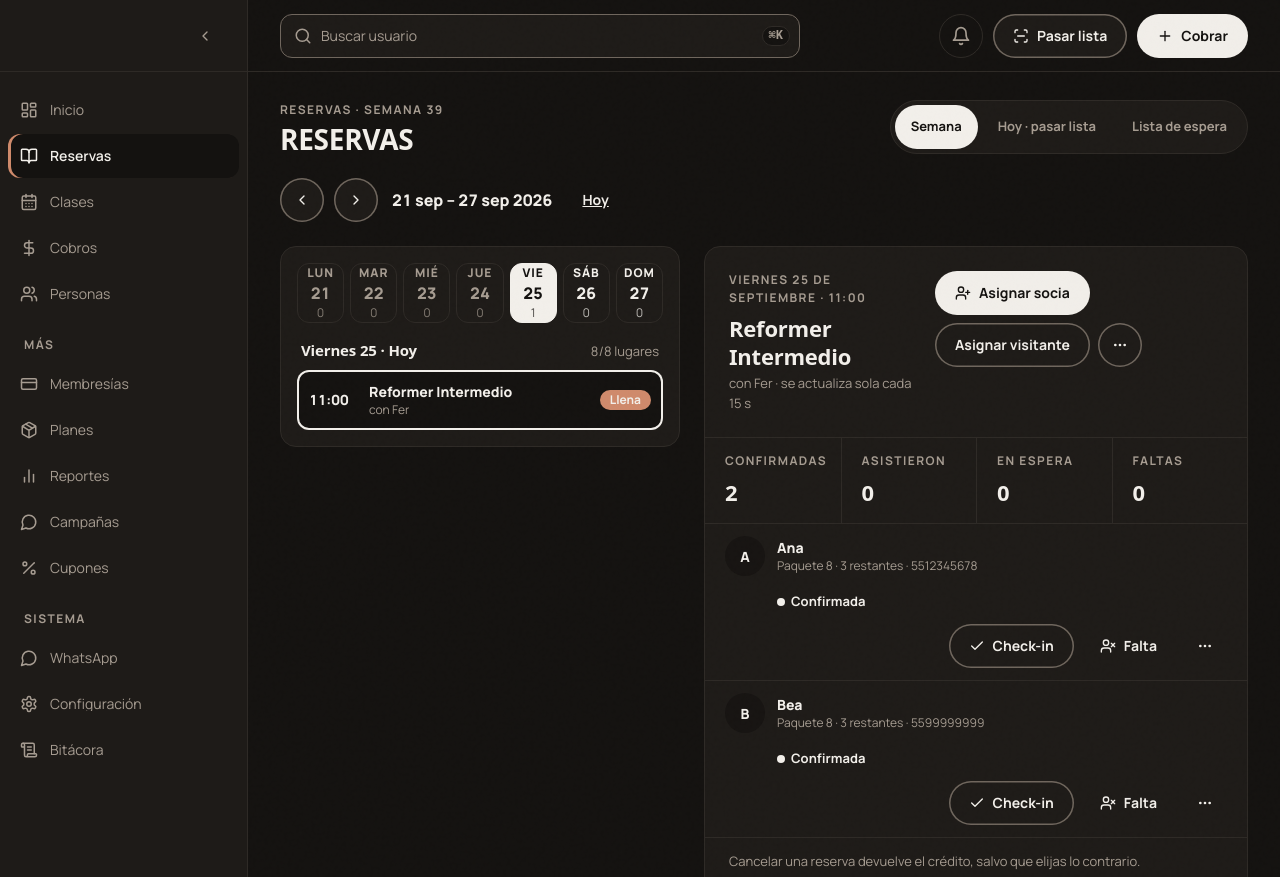
Test: Cancelar clase · WhatsApp desconectado (P0-1) › avisa a mano a las alumnas que no se pudieron notificar
This screenshot has width=1280, height=877.
Check: the heading "Reformer Intermedio" is shown, box [729,313,851,370]
What coordinates should you click on to do the following:
click the button named "Más acciones de la clase"
I would click on:
 (1120, 345)
Its box is [1098,323,1142,367].
(page scrolled)
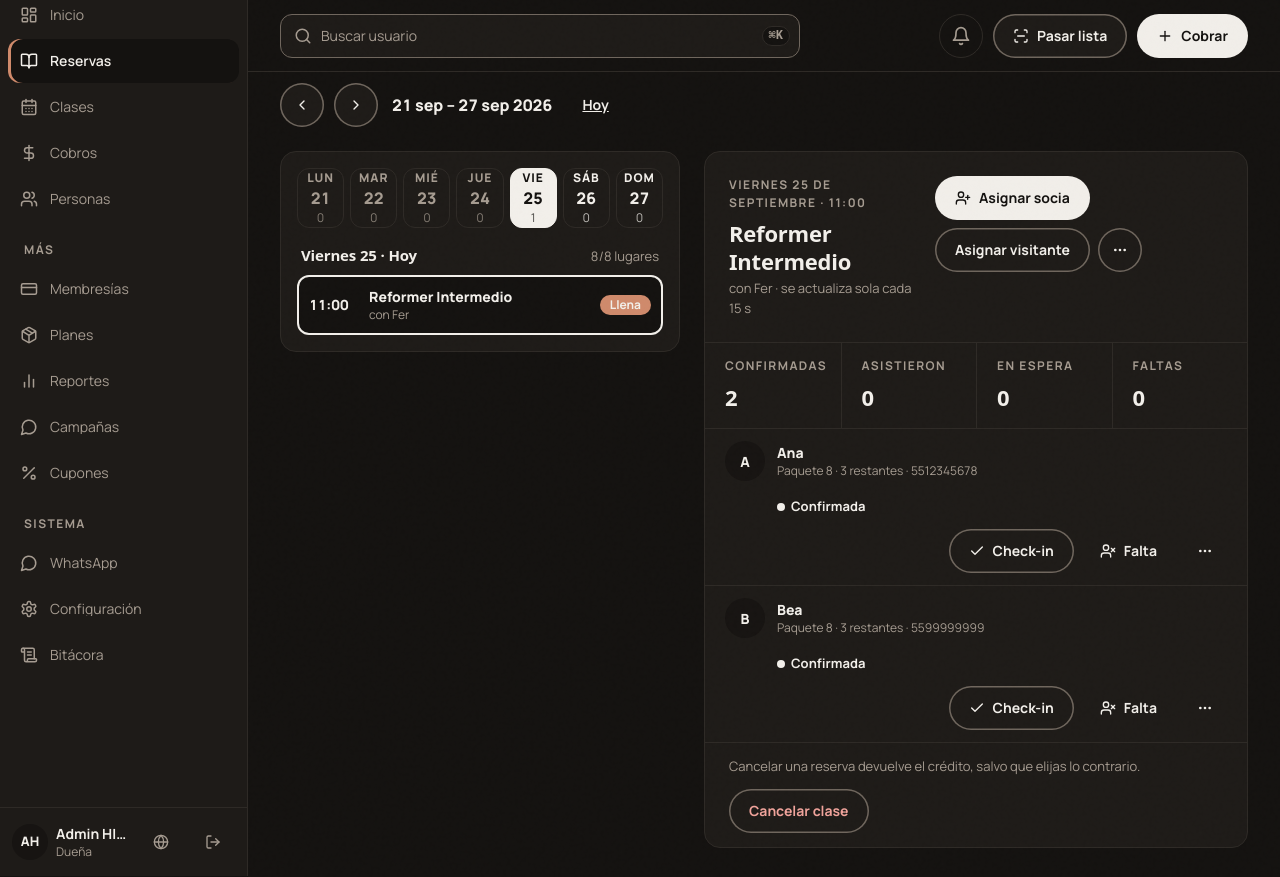
What coordinates should you click on to do the following:
click the button "Cancelar clase"
I would click on:
 (799, 810)
Its box is [729,788,868,832].
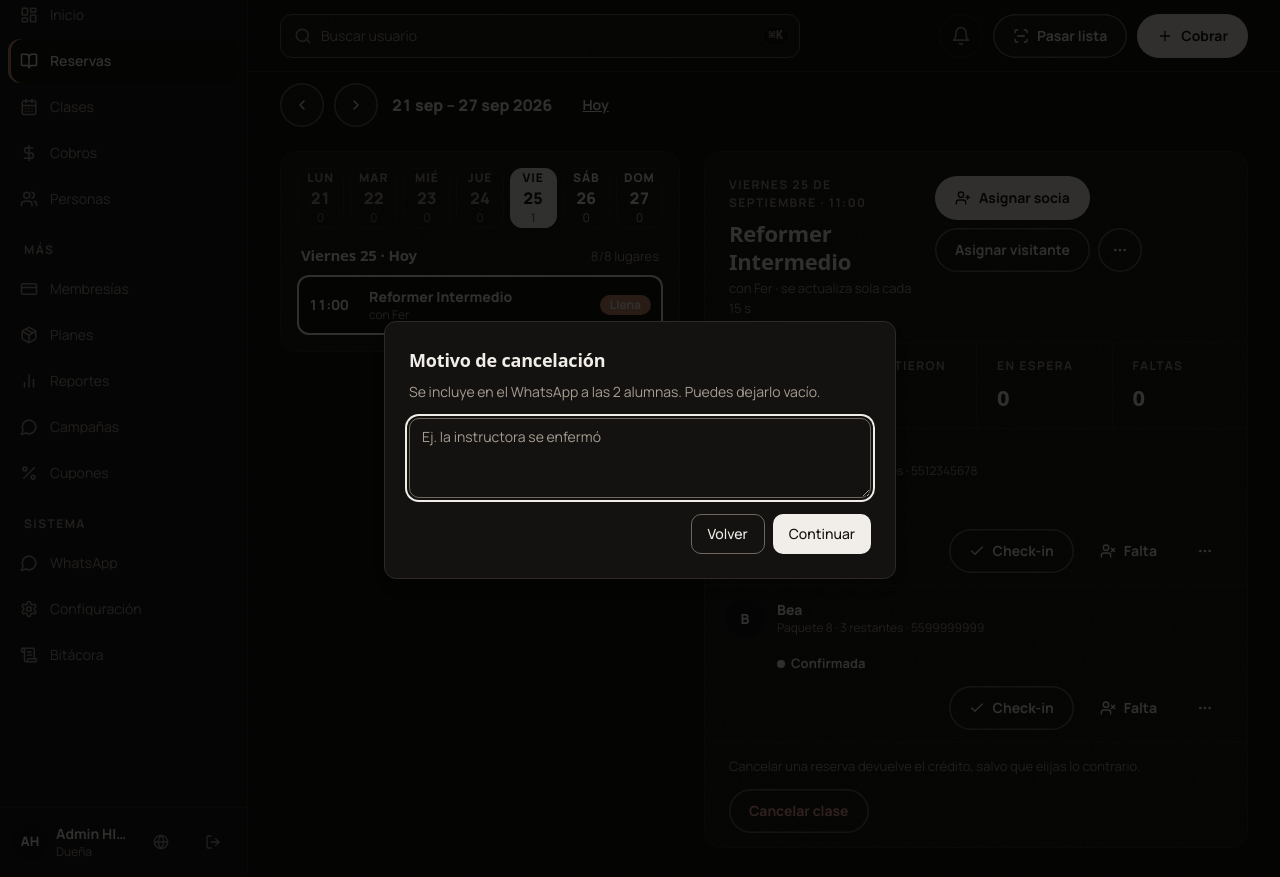
Check: the heading "Motivo de cancelación" is shown, box [409,348,605,372]
What coordinates should you click on to do the following:
click the button "Continuar"
I would click on:
 (822, 534)
Its box is [773,514,871,554].
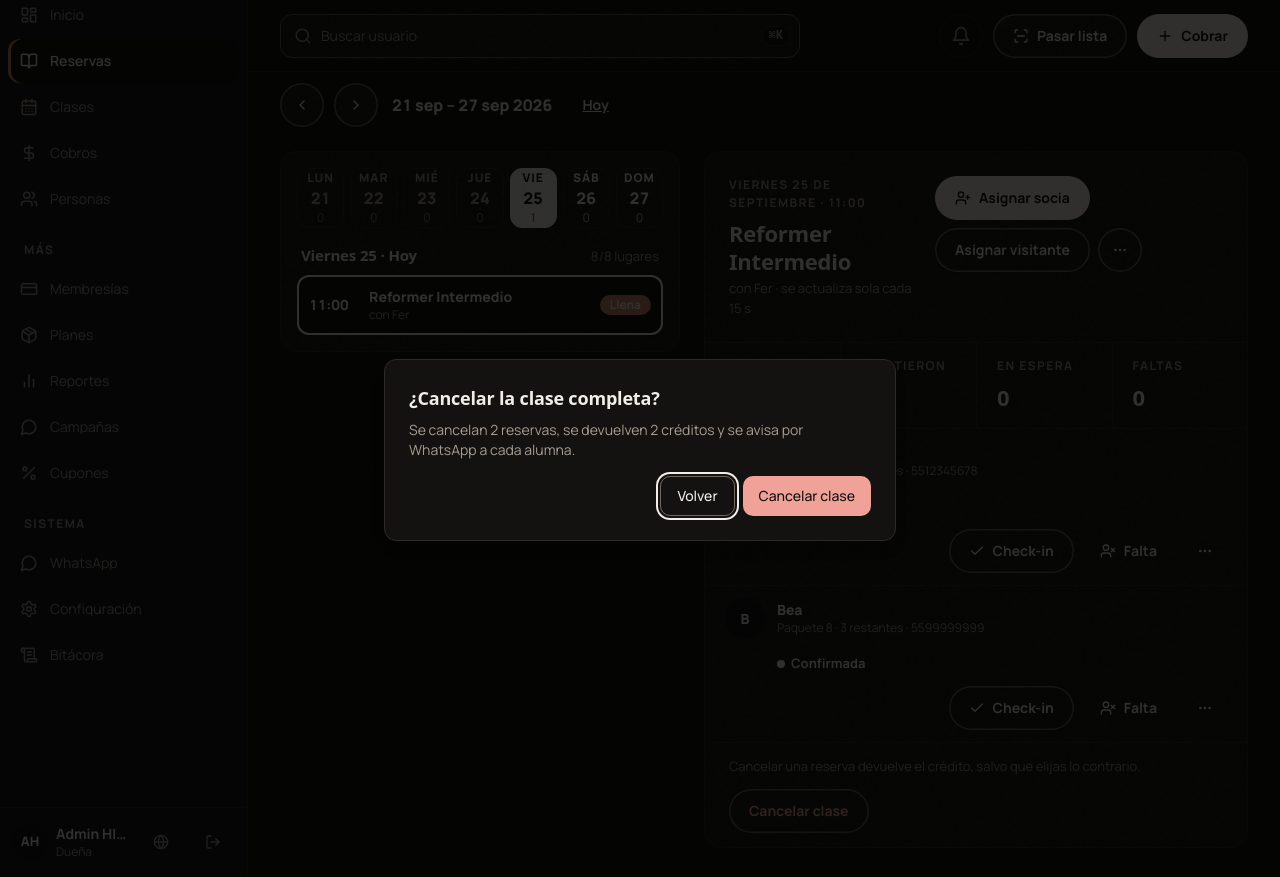
Check: the heading "¿Cancelar la clase completa?" is shown, box [409,386,660,410]
What coordinates should you click on to do the following:
click the button "Cancelar clase"
I would click on:
 (807, 496)
Its box is [743,476,871,516].
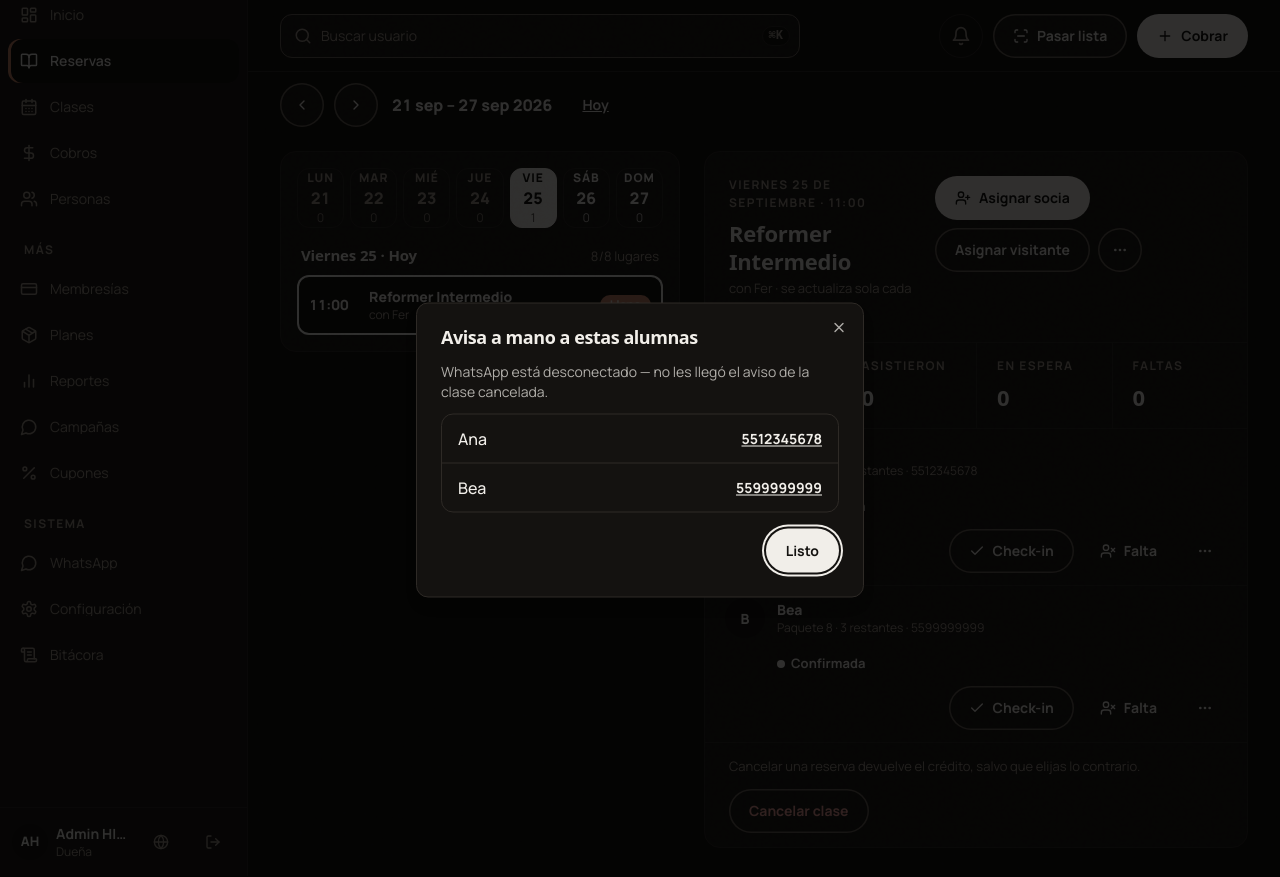
Check: the text "Ana" is shown, box [458,426,487,450]
Check: the text "Bea" is shown, box [458,476,486,500]
Check: the text "WhatsApp está desconectado" is shown, box [441,362,637,380]
What coordinates should you click on to do the following:
click the button "Listo"
I would click on:
 (802, 550)
Its box is [766,528,839,572].
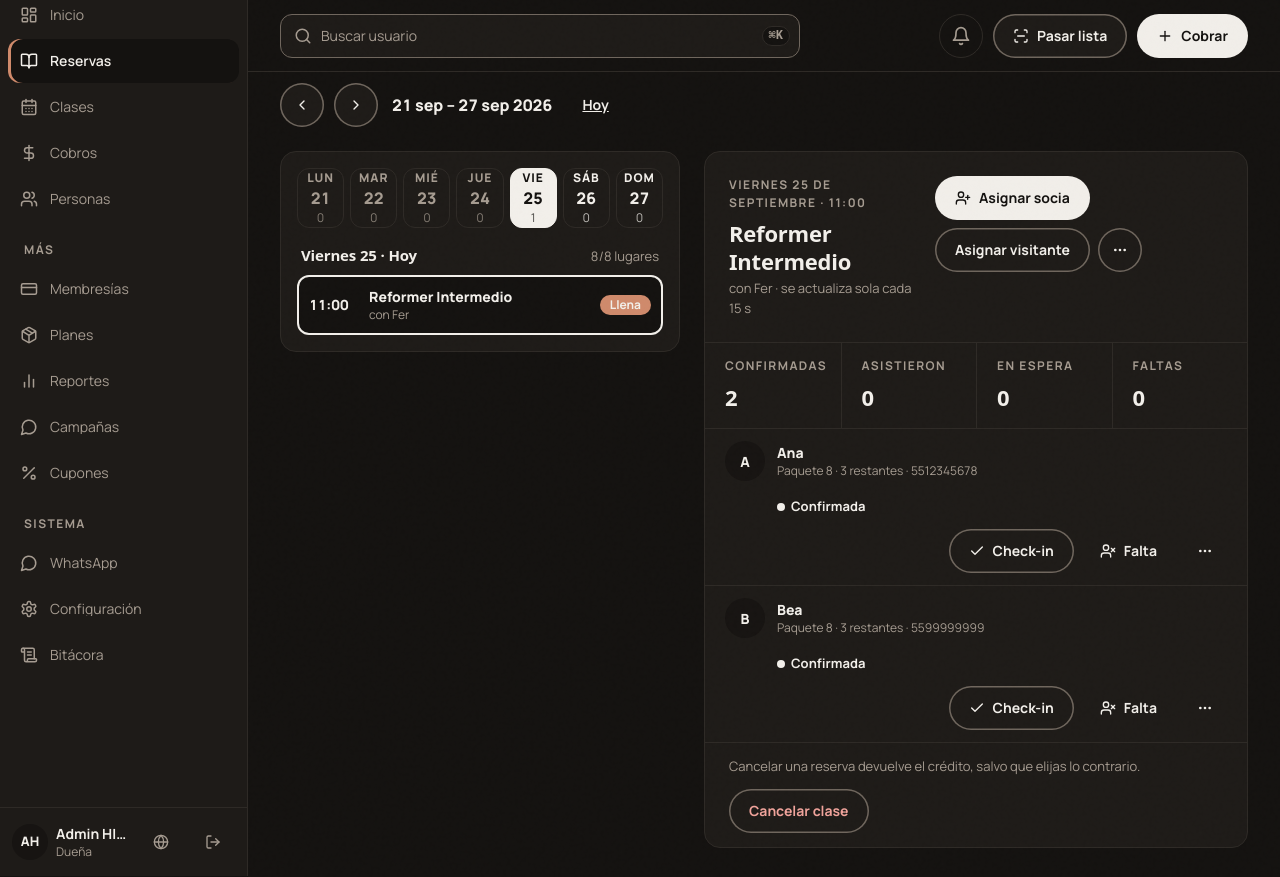
Check: the heading "Avisa a mano a estas alumnas" is gone
